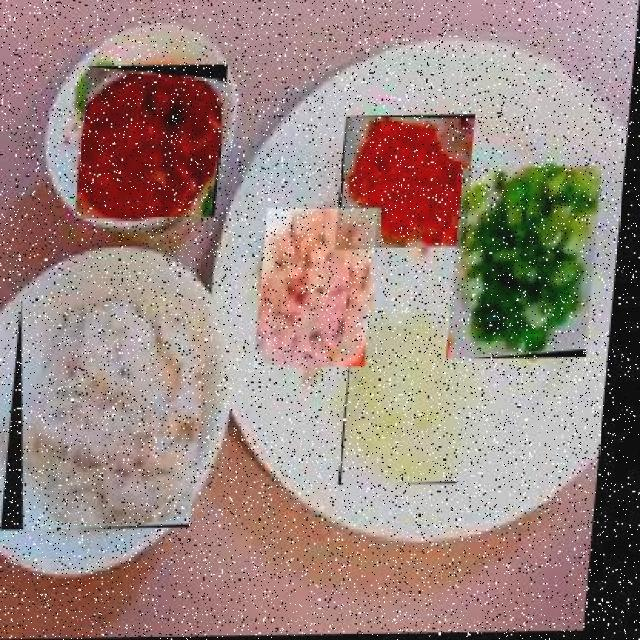Carrot: (339, 116, 479, 252)
Kimchi: (78, 65, 231, 221)
Onion: (348, 326, 478, 488)
Onion Leaves: (452, 168, 608, 362)
Pork: (260, 208, 383, 370)
